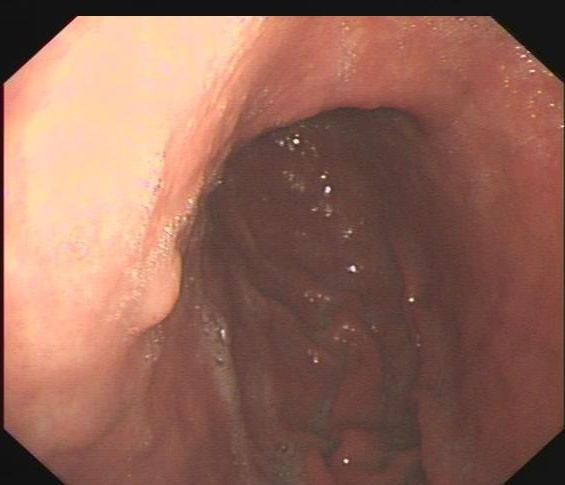Polyp: (134, 246, 187, 337)
